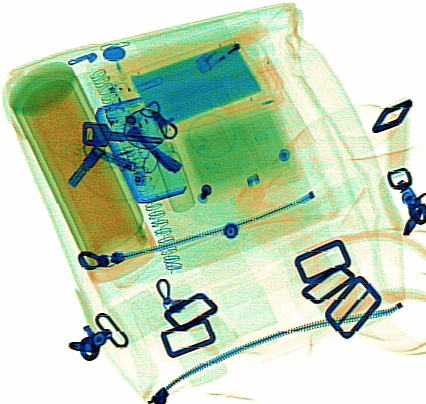lighter: (194, 15, 266, 74)
